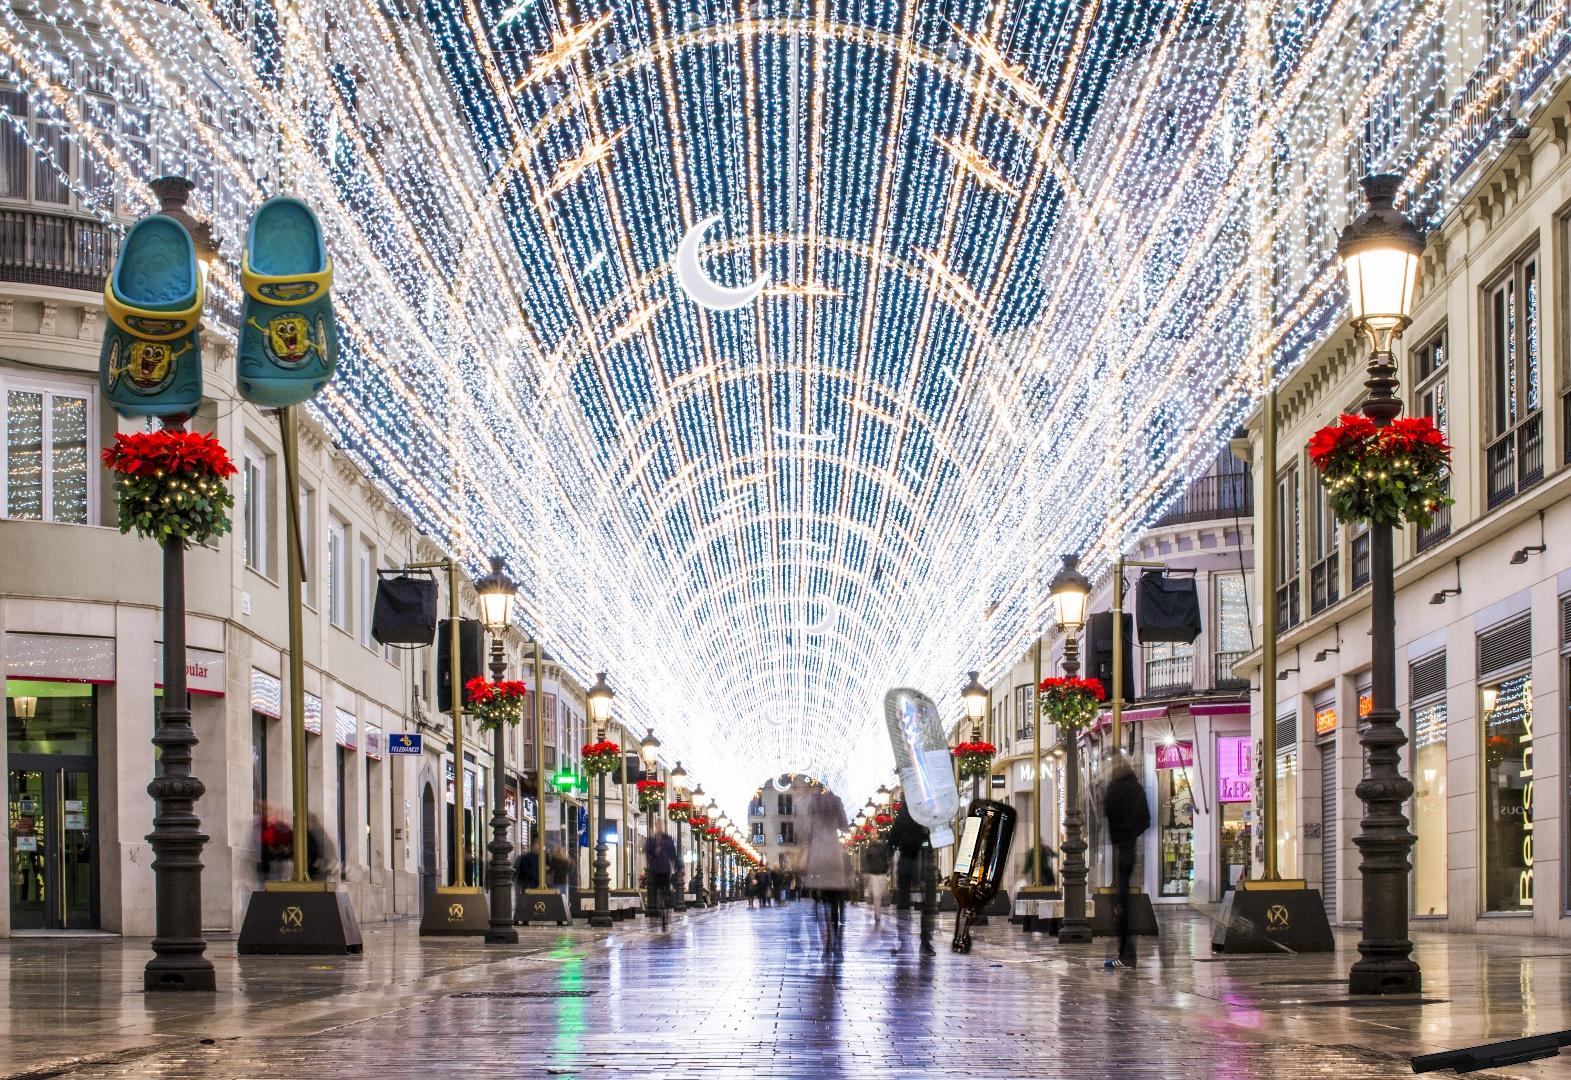battery: (1407, 1025, 1571, 1076)
glass: (945, 792, 1318, 1064)
plastic-bottles: (880, 683, 1175, 1039)
shoes: (96, 191, 341, 582)
